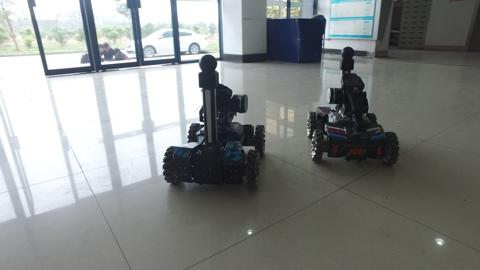car: (121, 15, 215, 63)
chariot: (162, 50, 273, 198), (301, 40, 408, 177)
